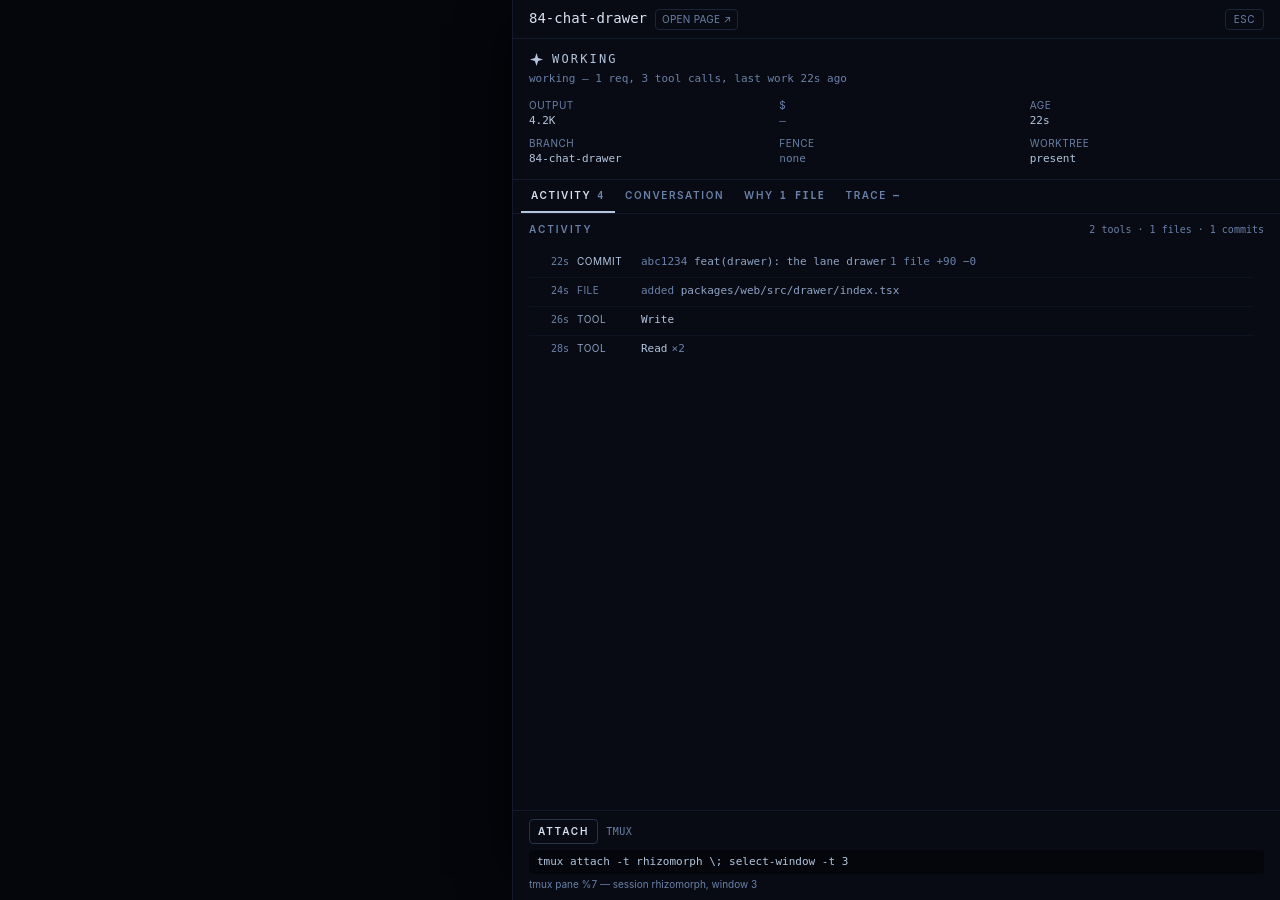
Test: LaneDrawer — the trace section (prd9 B1a) › is the honest gap when the lane has produced no trace telemetry
The width and height of the screenshot is (1280, 900).
Click the tab with test id "drawer-tab-trace" at (873, 197), box [835,180,910,213]
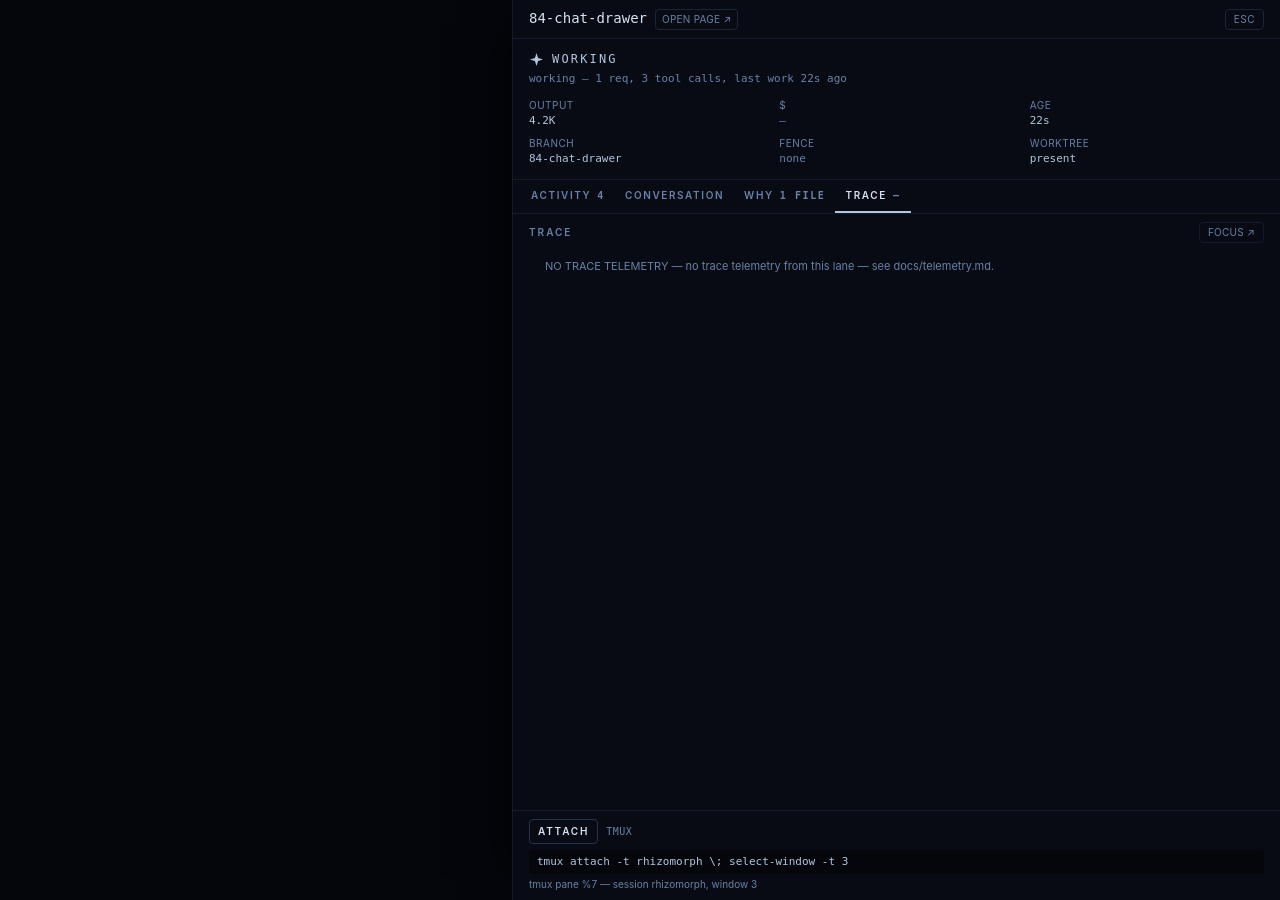
Check: the element with test id "drawer-trace" shows "no trace telemetry from this lane", box [545,259,994,273]
Check: the element with test id "drawer-trace" shows "docs/telemetry.md", box [545,259,994,273]
